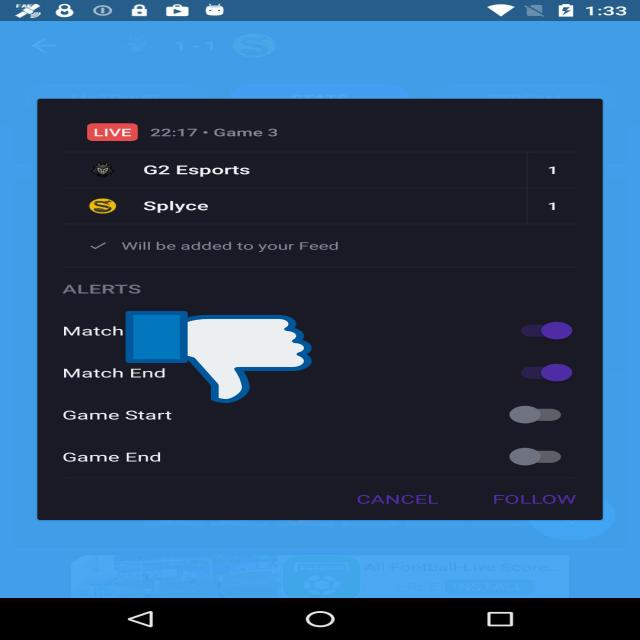obstruction: (126, 309, 312, 405)
